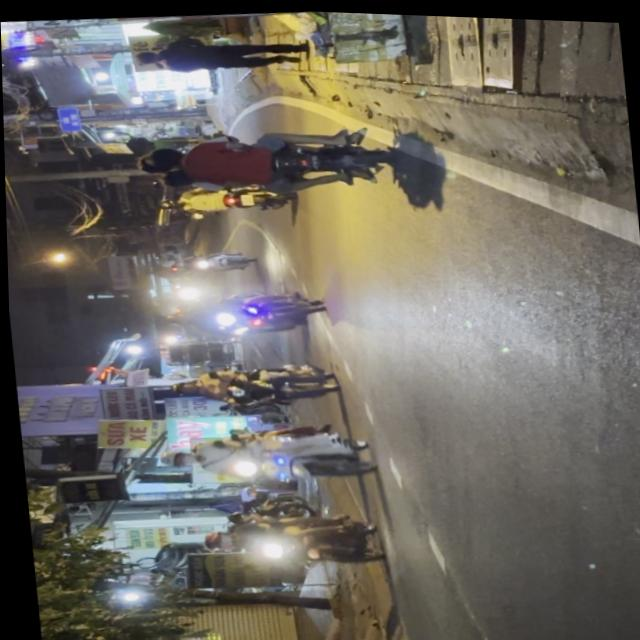helmet: (153, 449, 193, 470), (194, 529, 229, 550)
licenseplate: (128, 117, 399, 206), (150, 417, 378, 497), (190, 502, 384, 578)
motorcyclist: (133, 145, 183, 175)
